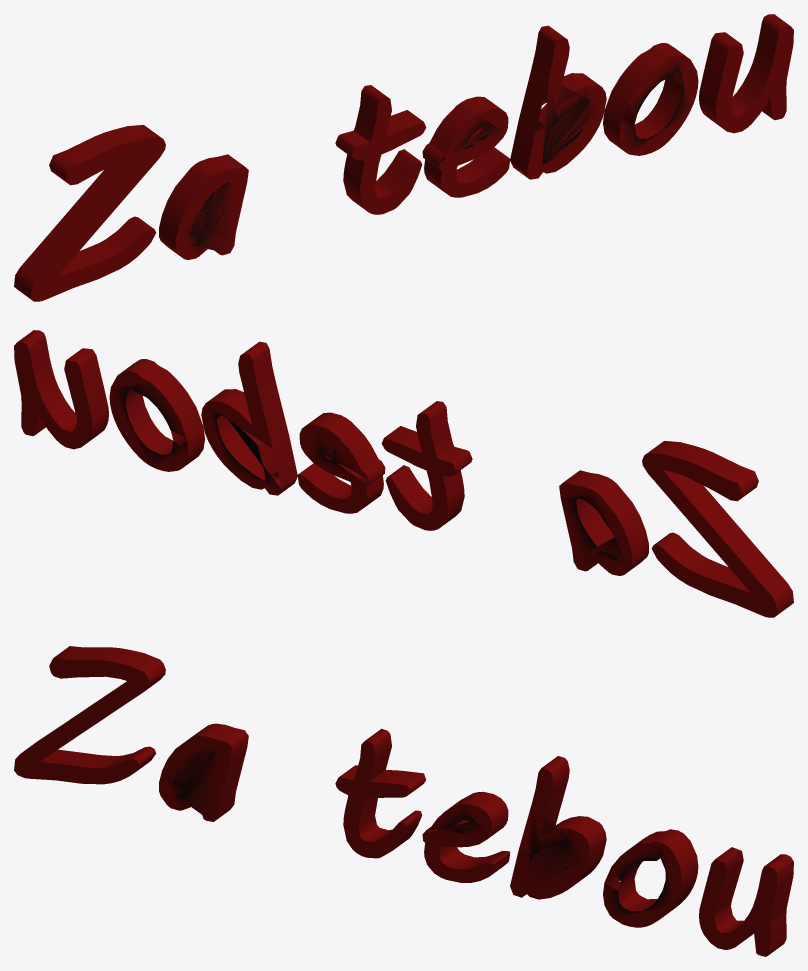
The model's file is napppis.fbx.
The picture shows the model from 3 angles, top to bottom: view 1: azimuth 30°, elevation 25°; view 2: azimuth 150°, elevation 25°; view 3: azimuth 330°, elevation 25°; orthographic projection.
Parts seen in each view (by area): view 1: typeMesh1; view 2: typeMesh1; view 3: typeMesh1.
Boxes of the visible parts, left/top/right/bottom form: typeMesh1: left=14, top=14, right=793, bottom=301; typeMesh1: left=14, top=330, right=793, bottom=617; typeMesh1: left=14, top=646, right=793, bottom=956.
Size of the model in its own units: 66.23 by 11.53 by 2.5.
